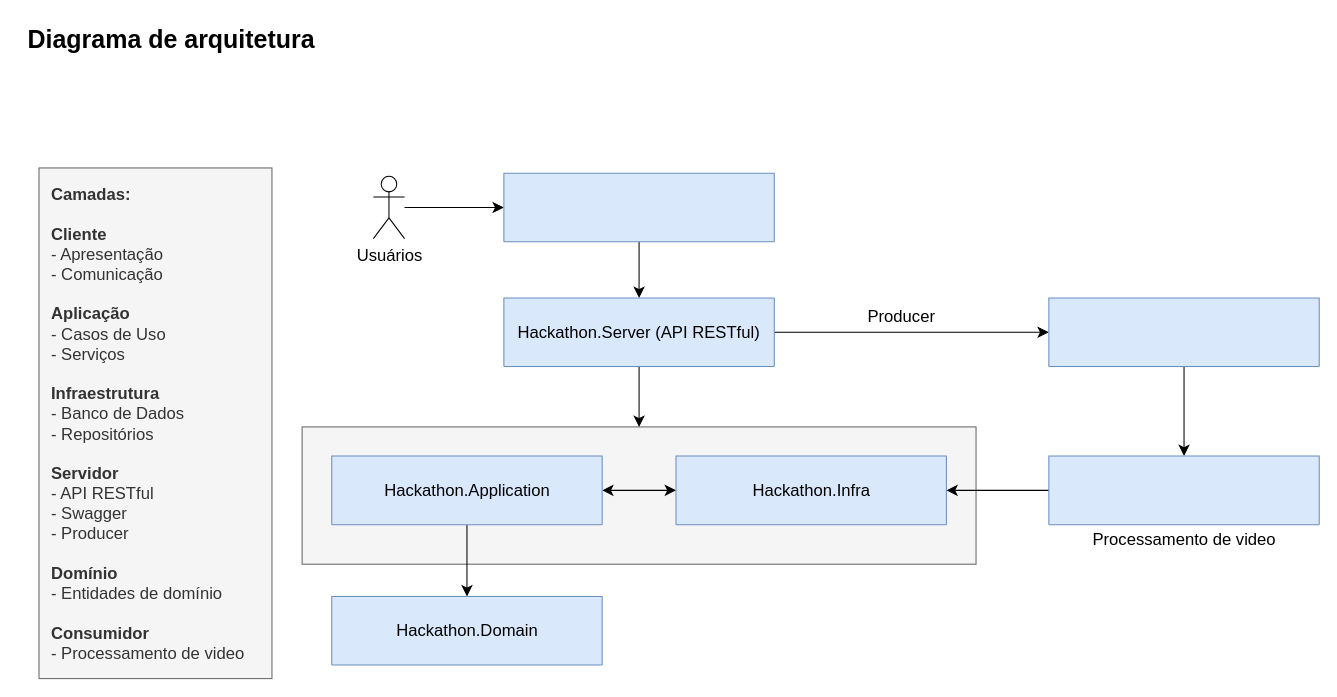
The diagram is 1337 pixels wide and 697 high, and some of its shapes have lost their labels. The shapes that lost their labels are listed below. From the top down, each one's centre as x and y in pixels, then its label:
the point at 638,207: Hackathon.Client (Blazor)
the point at 1183,332: RabbitMQ
the point at 1183,490: Hackathon.Consumer
